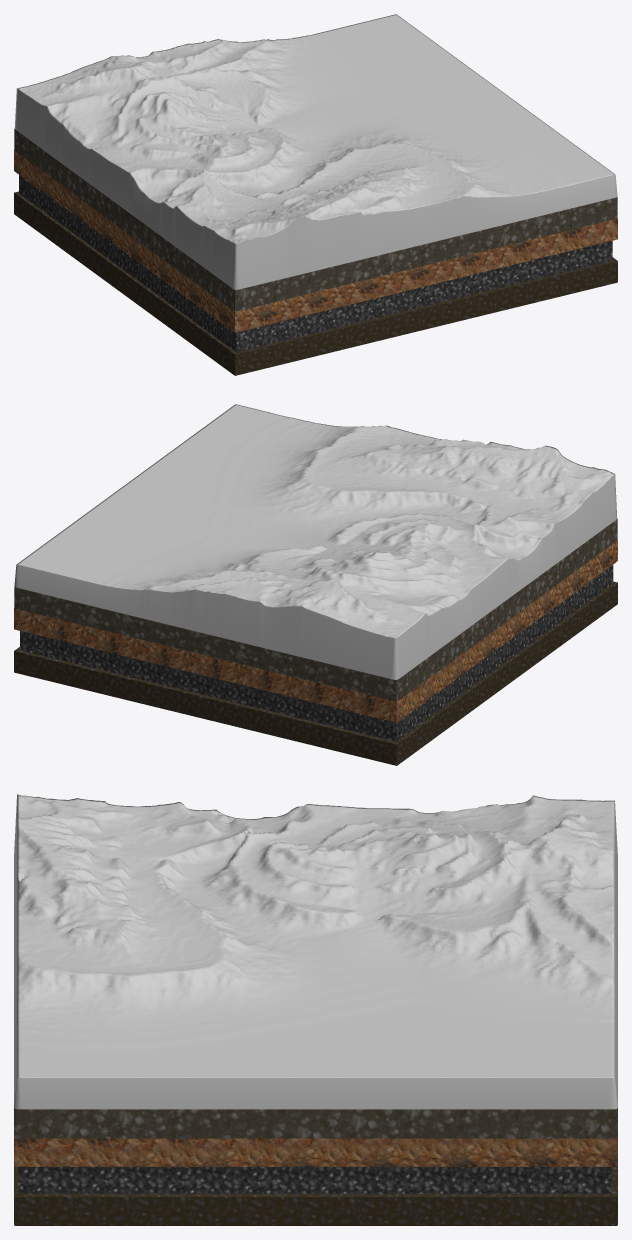
Rendered from Escenario-niveles.fbx.
3 renders of one model, top to bottom at view 1: azimuth 30°, elevation 25°; view 2: azimuth 150°, elevation 25°; view 3: azimuth 270°, elevation 25°, orthographic. The views are drawn at different scales.
Parts seen in each view (by area): view 1: Terreno_2_p, pCube5, pCube1, pCube4, BossOutput; view 2: Terreno_2_p, pCube5, pCube1, pCube4, BossOutput; view 3: Terreno_2_p, pCube5, pCube1, pCube4, BossOutput.
Part boxes in pixels (x1=…): Terreno_2_p: x1=14, y1=14, x2=617, y2=289; pCube5: x1=14, y1=191, x2=617, y2=375; pCube1: x1=14, y1=129, x2=617, y2=311; pCube4: x1=14, y1=150, x2=617, y2=332; BossOutput: x1=19, y1=175, x2=612, y2=352; Terreno_2_p: x1=14, y1=404, x2=617, y2=679; pCube5: x1=14, y1=581, x2=617, y2=765; pCube1: x1=14, y1=519, x2=617, y2=701; pCube4: x1=14, y1=540, x2=617, y2=722; BossOutput: x1=20, y1=565, x2=613, y2=741; Terreno_2_p: x1=14, y1=794, x2=617, y2=1109; pCube5: x1=14, y1=1166, x2=617, y2=1225; pCube1: x1=14, y1=1107, x2=617, y2=1138; pCube4: x1=14, y1=1137, x2=617, y2=1166; BossOutput: x1=18, y1=1167, x2=611, y2=1193.
Size of the model in its own units: 2001 by 719 by 2000.
